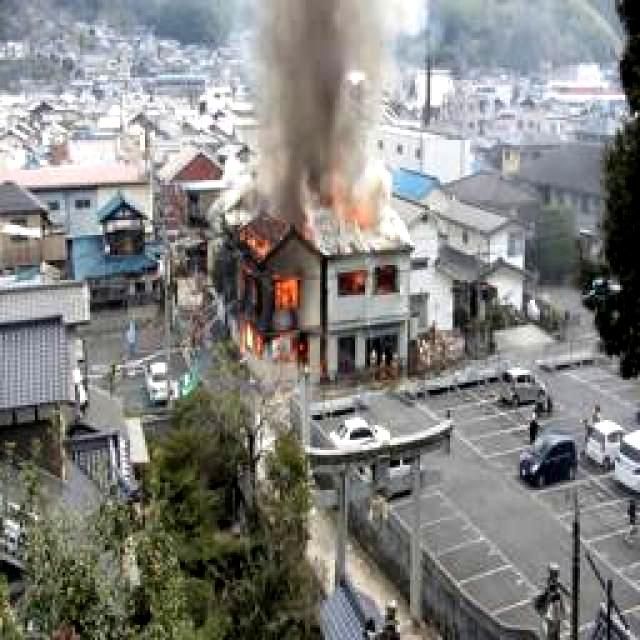fire: (230, 230, 302, 370), (336, 270, 368, 298)
